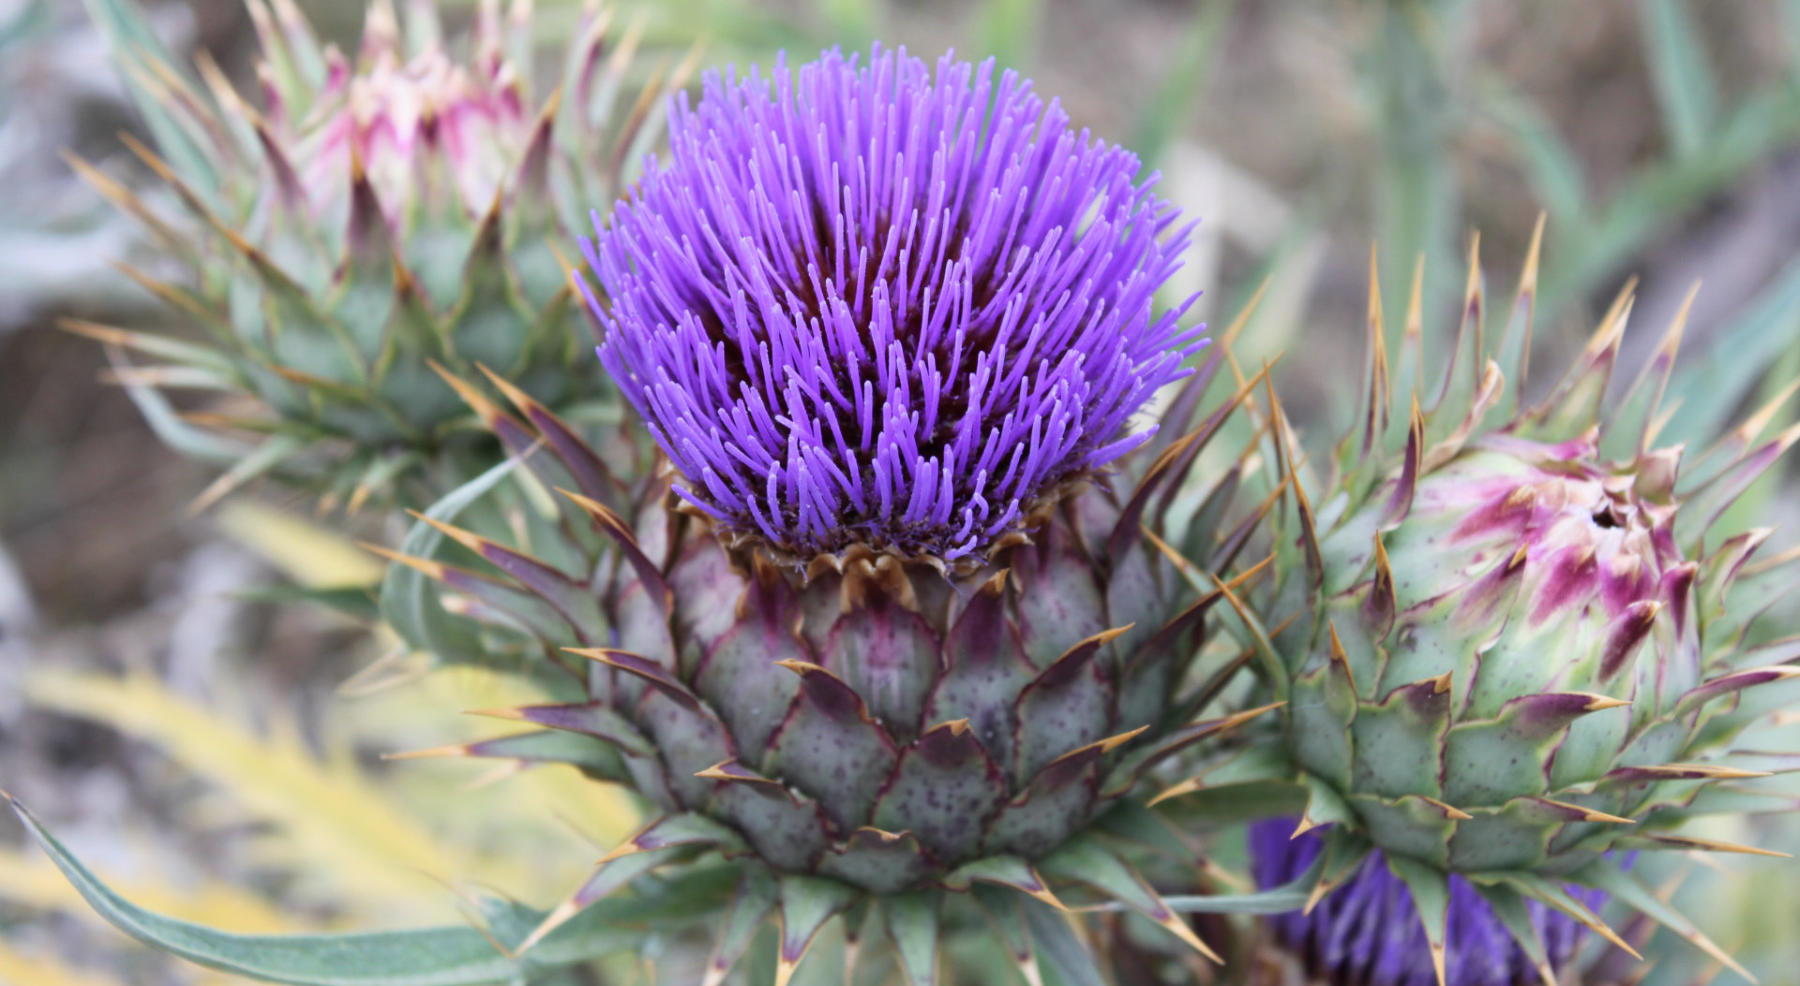thistle: (500, 50, 1273, 974)
